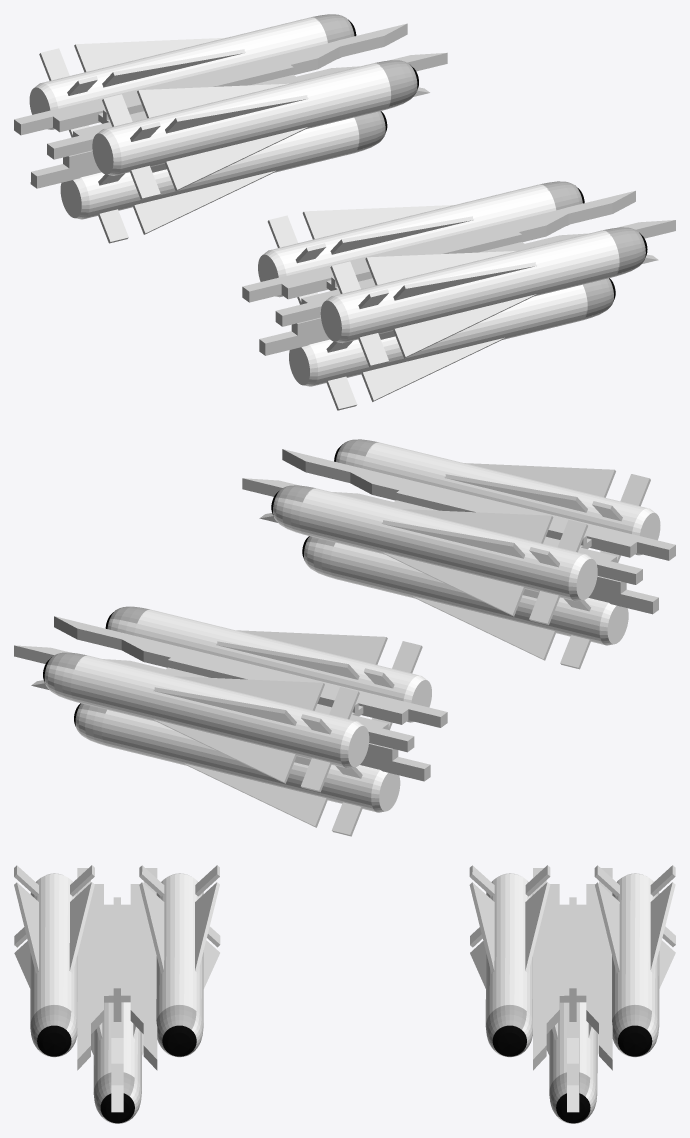
File: a10cagm6535.glb
3 renders of one model, top to bottom at view 1: azimuth 30°, elevation 25°; view 2: azimuth 150°, elevation 25°; view 3: azimuth 270°, elevation 25°, orthographic.
Visible parts, largest first — view 1: 立方体.022, 立方体.018, 立方体.019, 立方体.023, 立方体.020, 立方体.024, 立方体.021, 立方体.017; view 2: 立方体.023, 立方体.019, 立方体.022, 立方体.018, 立方体.024, 立方体.020, 立方体.017, 立方体.021; view 3: 立方体.021, 立方体.017, 立方体.019, 立方体.023, 立方体.022, 立方体.018, 立方体.024, 立方体.020.
Part boxes in pixels (x1,y1,x2,y2): 立方体.022: [320, 227, 647, 366]; 立方体.018: [92, 60, 418, 199]; 立方体.019: [29, 14, 356, 137]; 立方体.023: [258, 181, 584, 304]; 立方体.020: [60, 111, 387, 243]; 立方体.024: [289, 278, 615, 410]; 立方体.021: [242, 190, 675, 355]; 立方体.017: [14, 23, 447, 188]; 立方体.023: [271, 485, 597, 624]; 立方体.019: [43, 652, 369, 792]; 立方体.022: [334, 439, 660, 562]; 立方体.018: [105, 606, 431, 730]; 立方体.024: [302, 536, 628, 669]; 立方体.020: [74, 703, 400, 836]; 立方体.017: [14, 616, 447, 781]; 立方体.021: [242, 449, 675, 614]; 立方体.021: [77, 868, 157, 1112]; 立方体.017: [533, 868, 612, 1112]; 立方体.019: [594, 865, 675, 1057]; 立方体.023: [139, 865, 220, 1057]; 立方体.022: [14, 865, 94, 1057]; 立方体.018: [469, 865, 550, 1057]; 立方体.024: [91, 1002, 143, 1123]; 立方体.020: [546, 1002, 598, 1123].
Size of the model in its own units: 3.17 by 1.08 by 4.63.
Materials: 6 (1 with a texture image).
